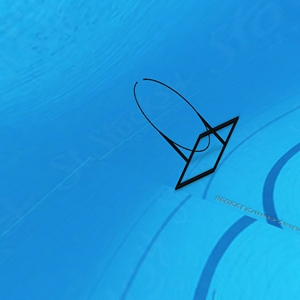circle: (124, 76, 251, 193)
